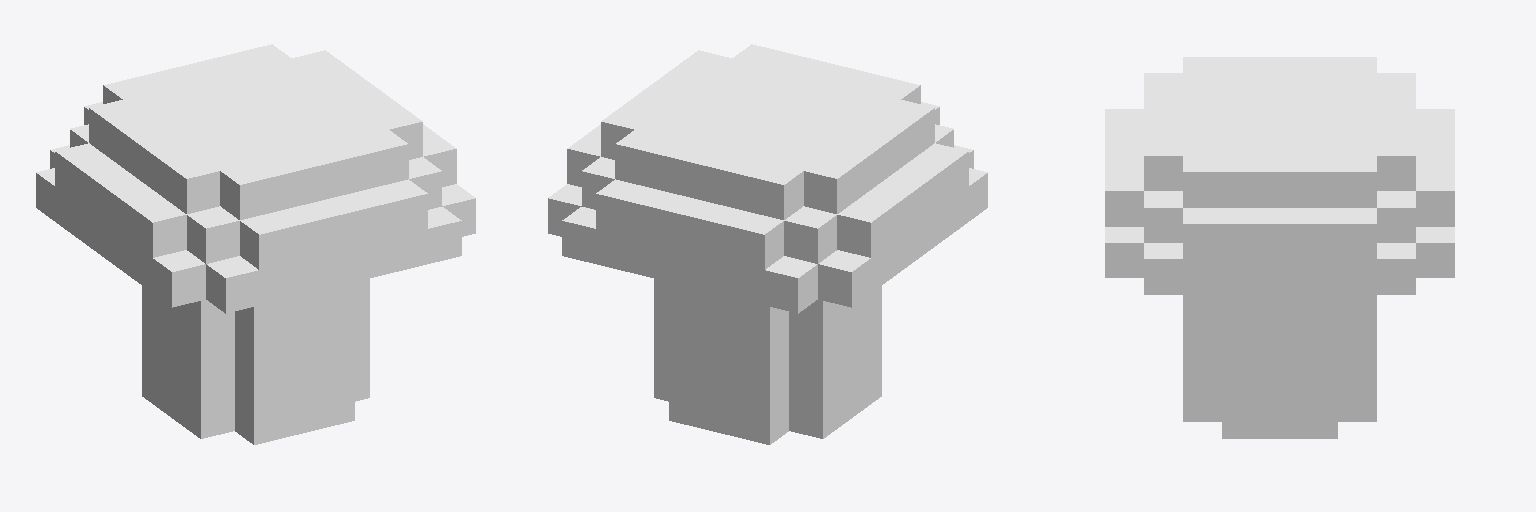
File: MelochevkaLes-3.obj
3 views of the same model, side by side, from view 1: azimuth 30°, elevation 25°; view 2: azimuth 150°, elevation 25°; view 3: azimuth 270°, elevation 25° (orthographic).
Visible parts, largest first — view 1: object 1; view 2: object 1; view 3: object 1.
Part boxes in pixels (x1,y1,x2,y2): object 1: (36,44,475,444); object 1: (548,44,987,444); object 1: (1105,57,1454,438).
Size of the model in its own units: 0.9 by 0.8 by 0.9.